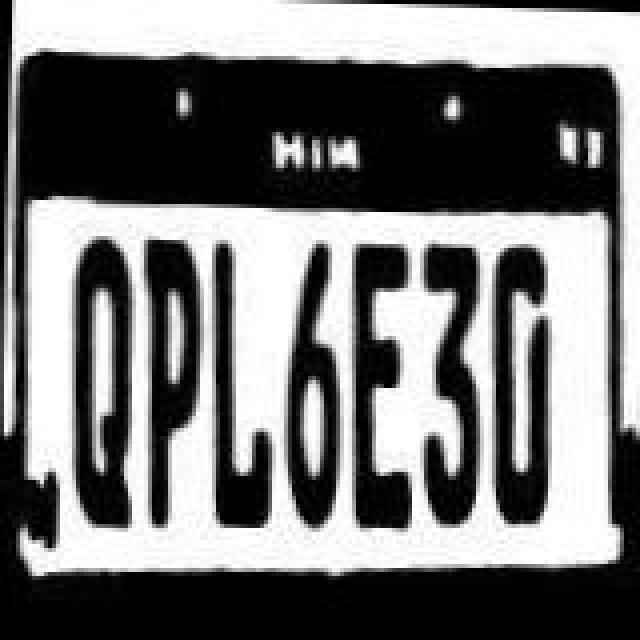3: (412, 238, 484, 538)
6: (278, 234, 346, 542)
D: (482, 222, 558, 534)
E: (342, 226, 418, 546)
L: (200, 236, 280, 528)
P: (132, 208, 204, 548)
Q: (58, 220, 142, 532)
